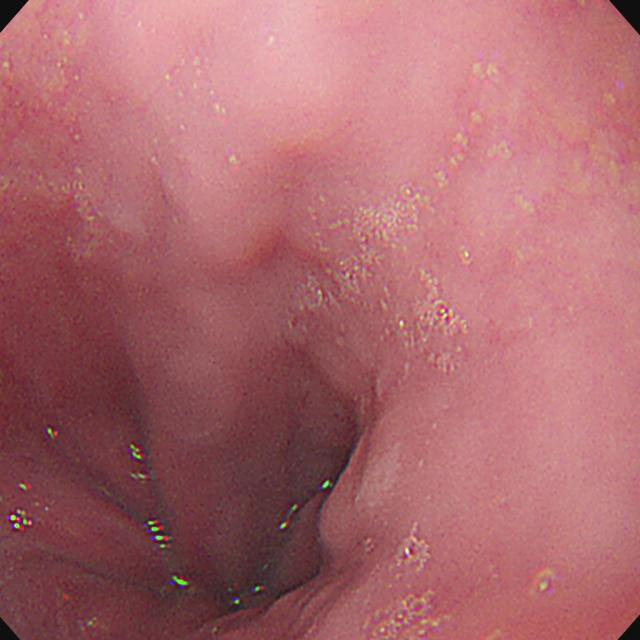T: (301, 186, 422, 316), (398, 267, 471, 378), (372, 590, 445, 640), (397, 538, 433, 574)
U: (147, 520, 175, 552), (11, 509, 35, 533), (173, 576, 193, 591)
